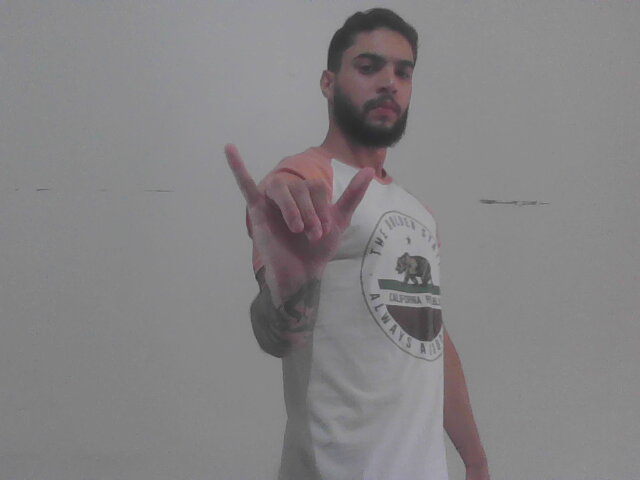y: (220, 137, 377, 299)
